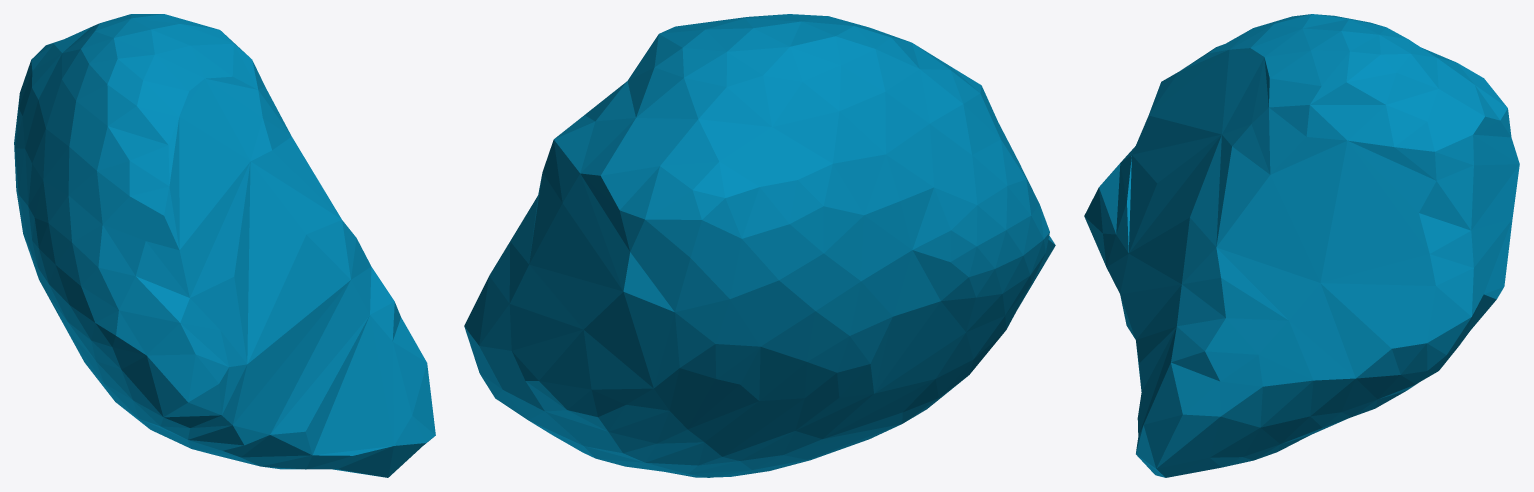
The model's file is Model_240_RH__Nucleus_of_the_vertical_limb_of_the_diagonal_band_(VDB).obj.
3 views of the same model, side by side, from view 1: azimuth 30°, elevation 25°; view 2: azimuth 150°, elevation 25°; view 3: azimuth 270°, elevation 25° (orthographic). The views are drawn at different scales.
Bounding box in the file's own units: 0.7707 × 0.8755 × 0.9057.
